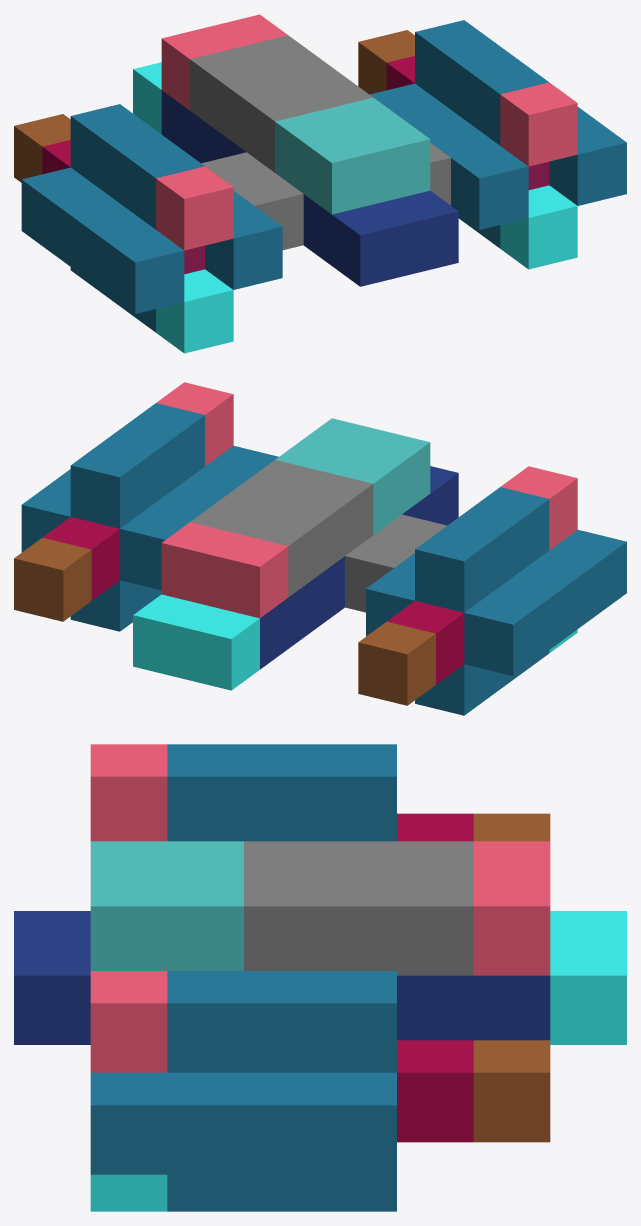
The model's file is naves-1.obj.
3 views of the same model, one above another, from view 1: azimuth 30°, elevation 25°; view 2: azimuth 150°, elevation 25°; view 3: azimuth 270°, elevation 25° (orthographic). The views are drawn at different scales.
Size of the model in its own units: 1 by 0.3 by 0.8.
Materials: 1 (1 with a texture image).
